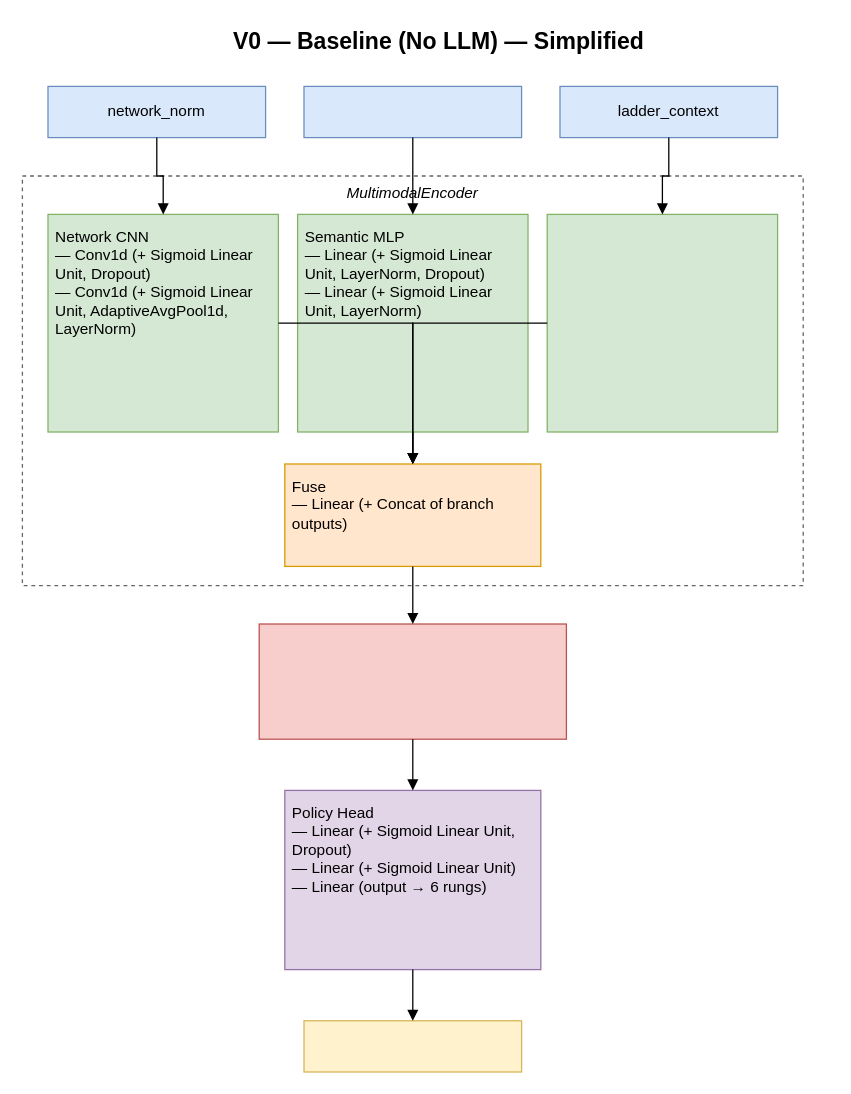
This 851x1094 diagram has some shape labels left out. Here are the shapes that lost their labels. From the top down, the centre of each, then its label:
(412,111): semantic_norm
(662,322): Ladder Proj — Linear (+ Sigmoid Linear Unit, Mean over rungs)
(412,681): Backbone Projector (placeholder) — Linear (+ Sigmoid Linear Unit, LayerNorm)
(412,1046): logits (6 rungs)
